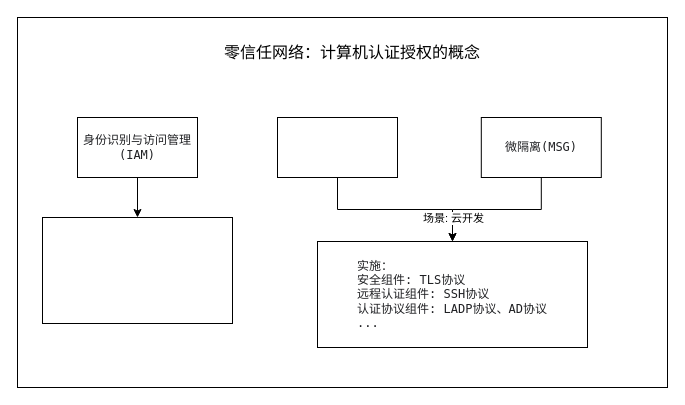
The diagram is 685 pixels wide and 405 high, and some of its shapes have lost their labels. The centre of each missing label's shape, as x and y in pixels:
"实施： 认证协议: SAML、CAS 认证授权协议: OAuth2.0、OpenID Connect(IODC)" belongs at [137,270].
"软件定义边界 SDP" belongs at [337,147].
